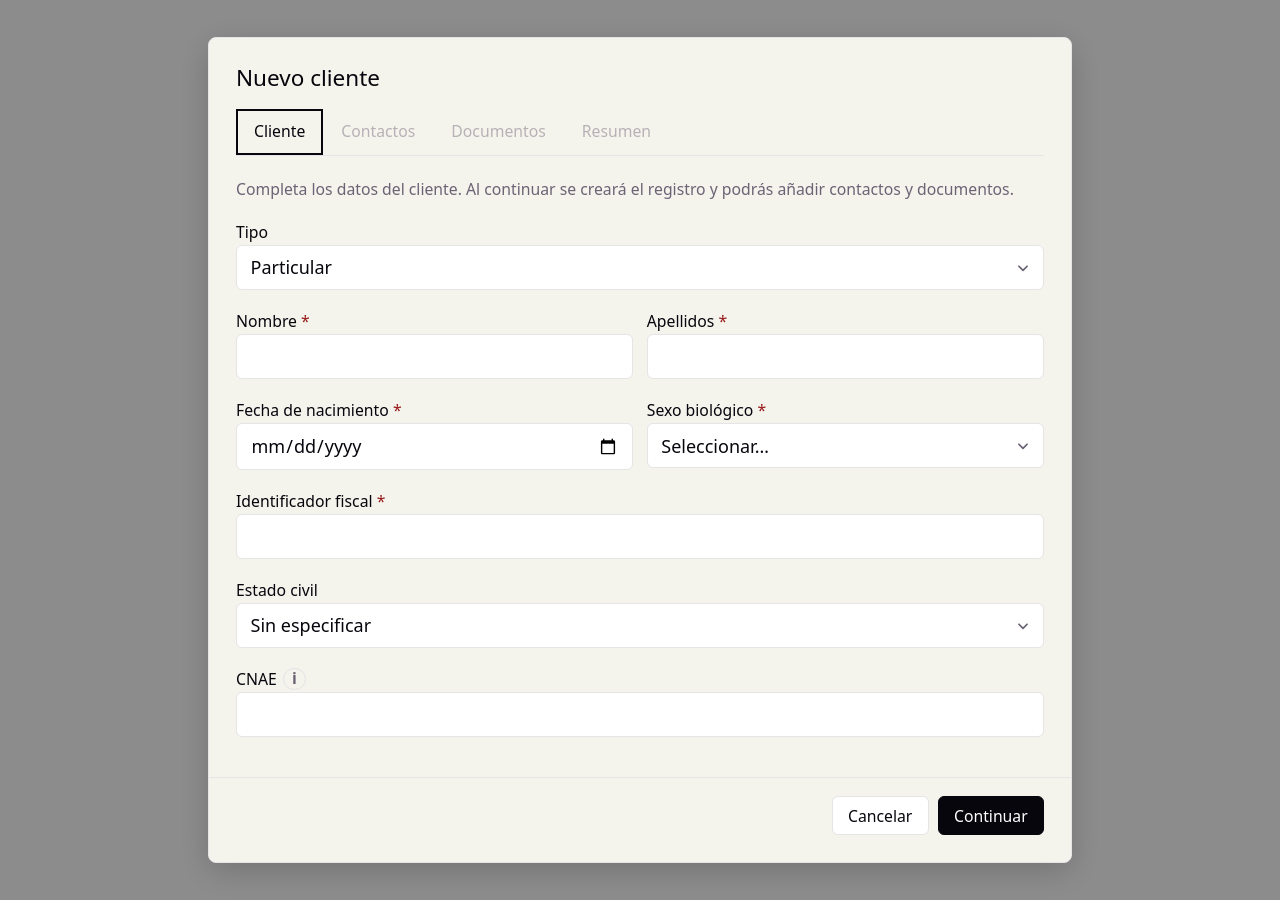
Test case: CustomerOnboardingWizard › shows customer tab validation under the affected field when continuing without required fields
The width and height of the screenshot is (1280, 900).
Step 1. Click the button "Continuar" → coordinates (991, 816), box x1=938 y1=796 x2=1044 y2=835
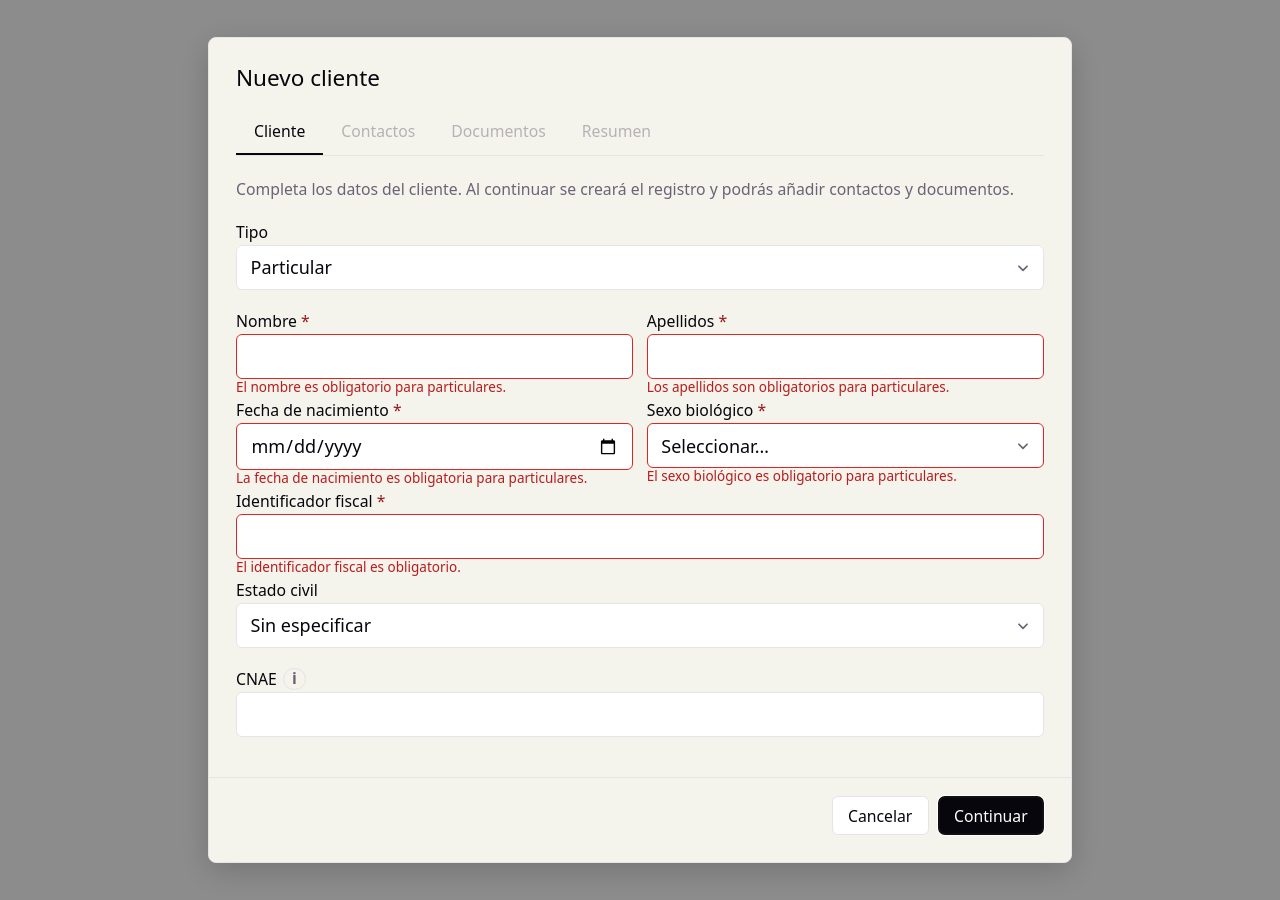
Expected: the tab "Contactos" is disabled, x1=323 y1=109 x2=433 y2=155
Expected: the message "El identificador fiscal es obligatorio." is shown, x1=236 y1=558 x2=461 y2=576
